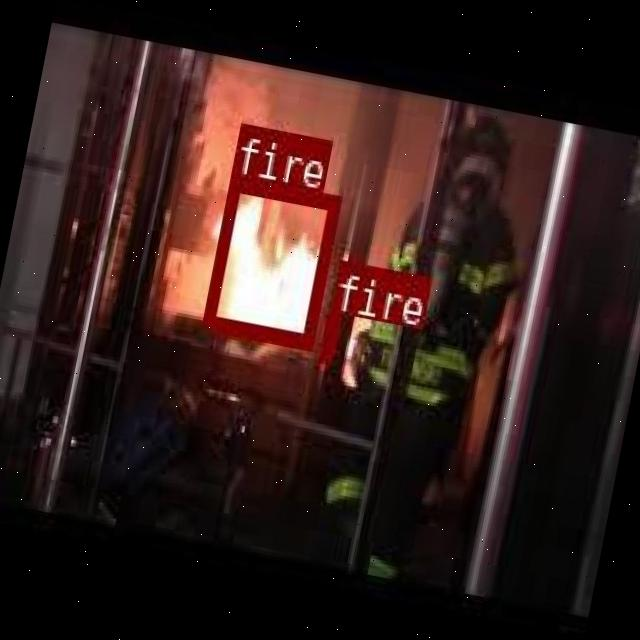fire: (200, 174, 340, 346), (321, 310, 336, 360)
